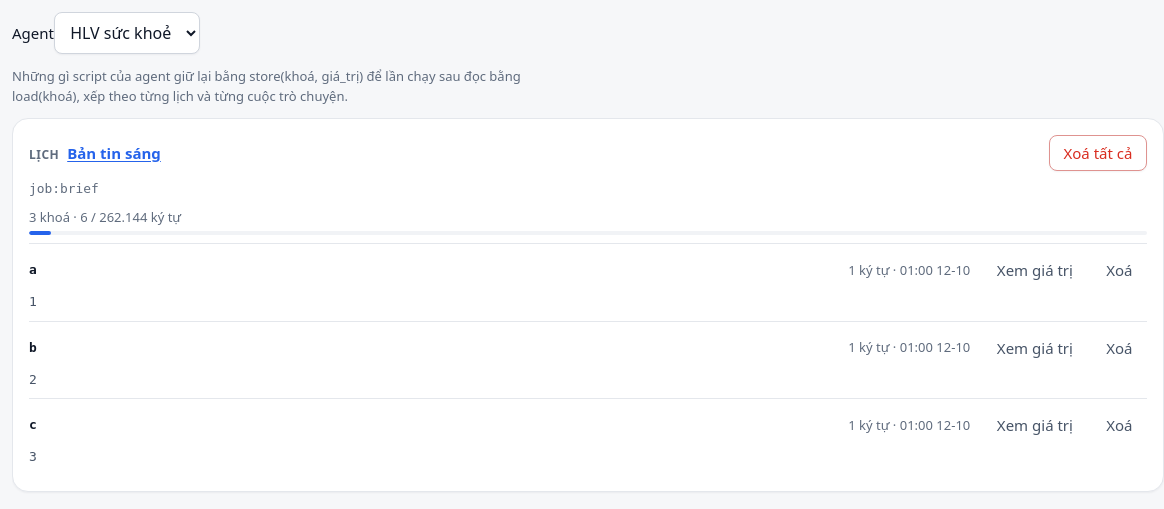
Test: deleting a whole namespace › asks about no key of a namespace that is going whole
Click the button "Xoá tất cả". click: coordinates (1098, 153)
box: [1049,135,1147,171]
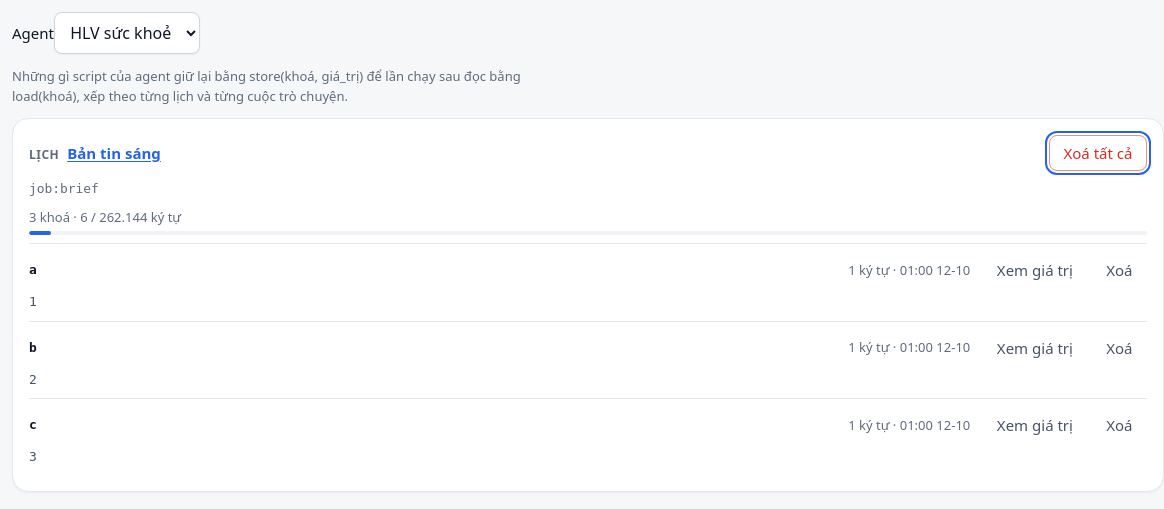
Click the 2nd button "Xoá". click: coordinates (1119, 348)
box: [1092,330,1147,366]
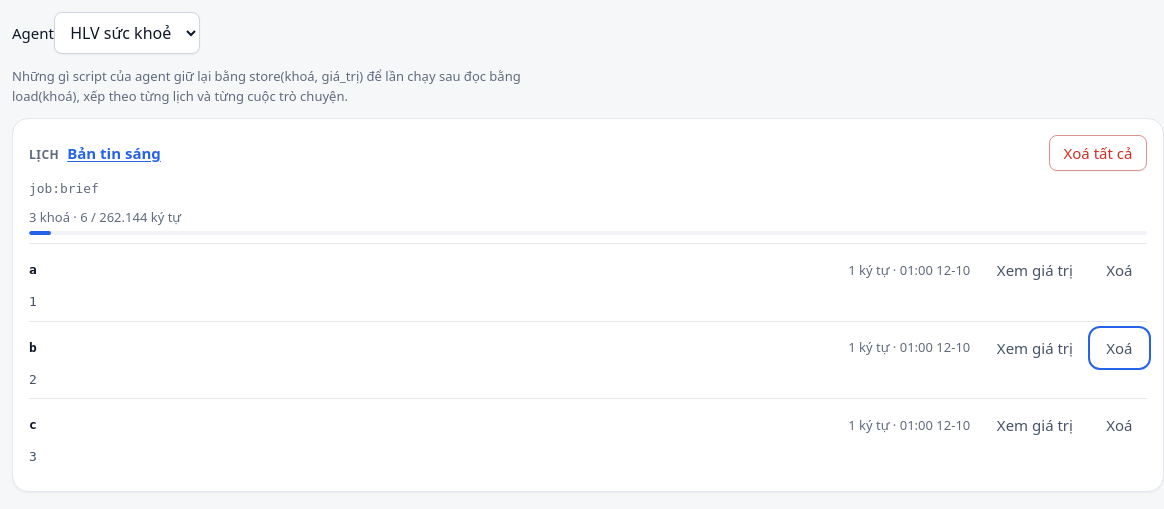
Click the button "Xoá tất cả". click: coordinates (1098, 153)
box: [1049,135,1147,171]
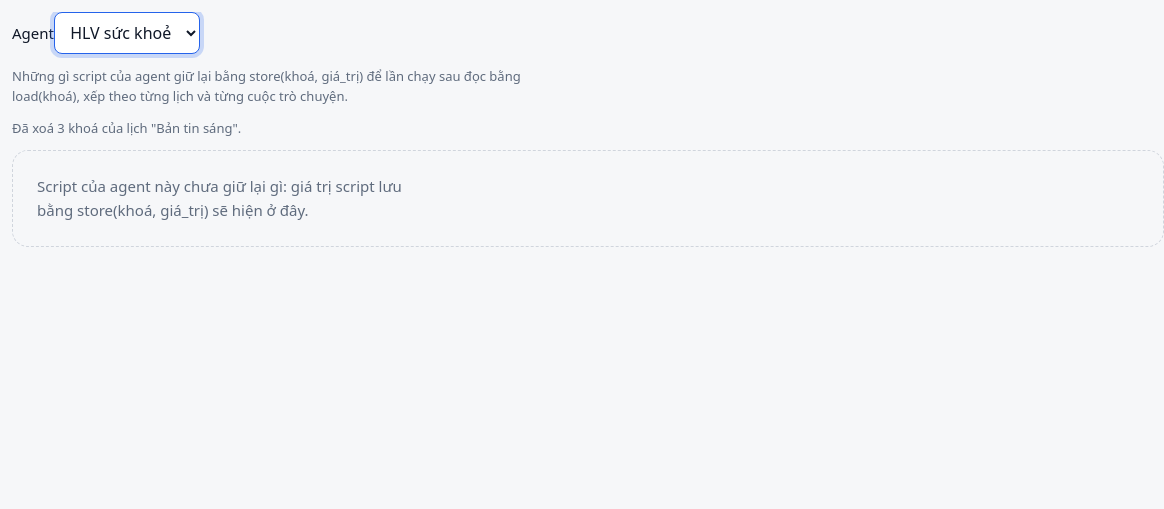
Check: the element with test id "empty-state" is shown, box [12,150,1163,247]
